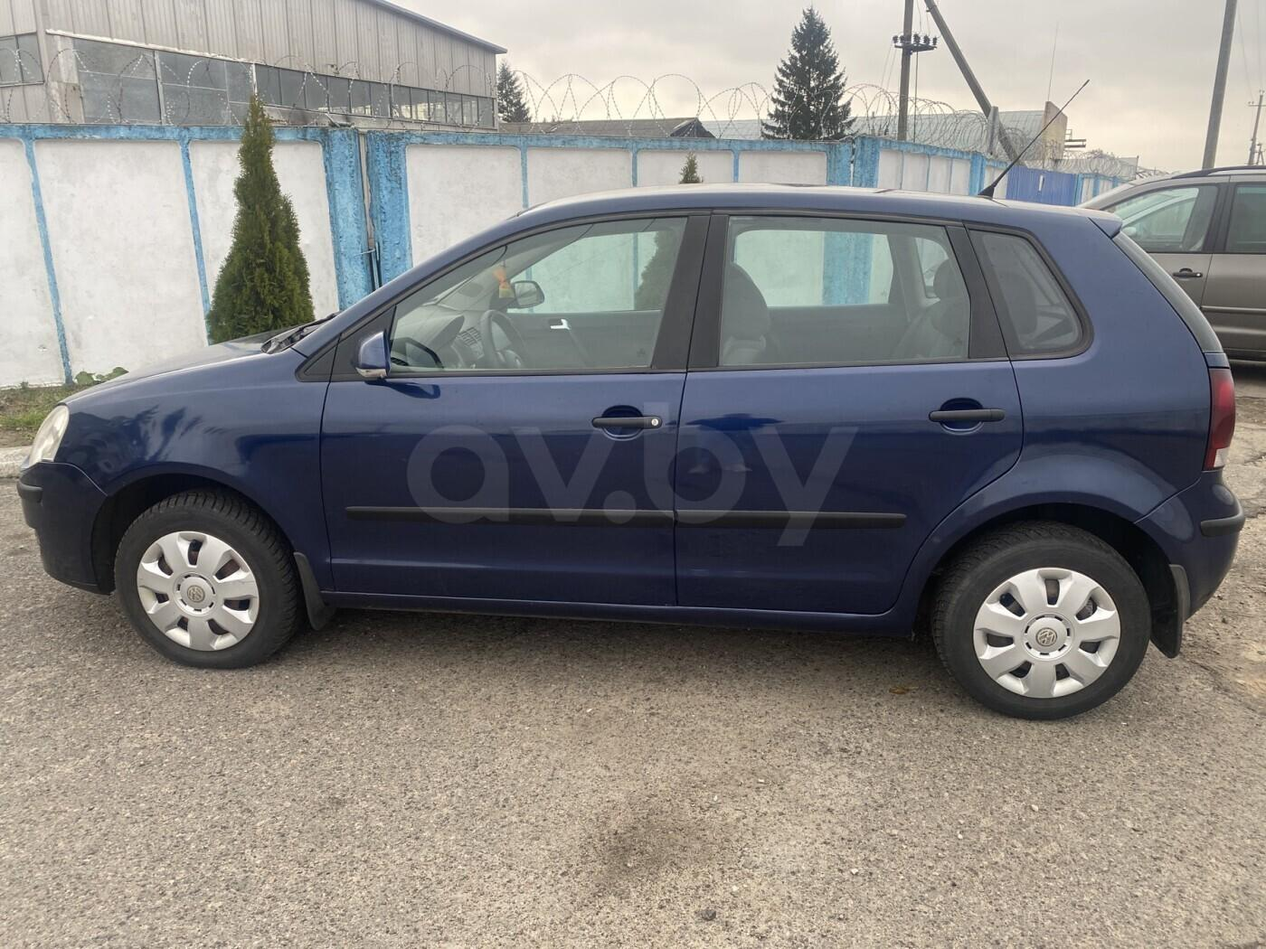Polo_2005-2009: (18, 168, 1222, 743)
